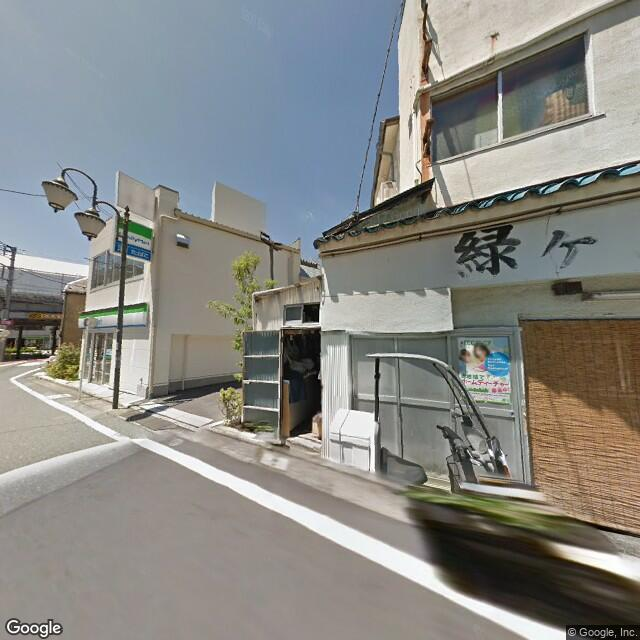family_mart: (78, 300, 148, 332), (116, 214, 154, 264)
